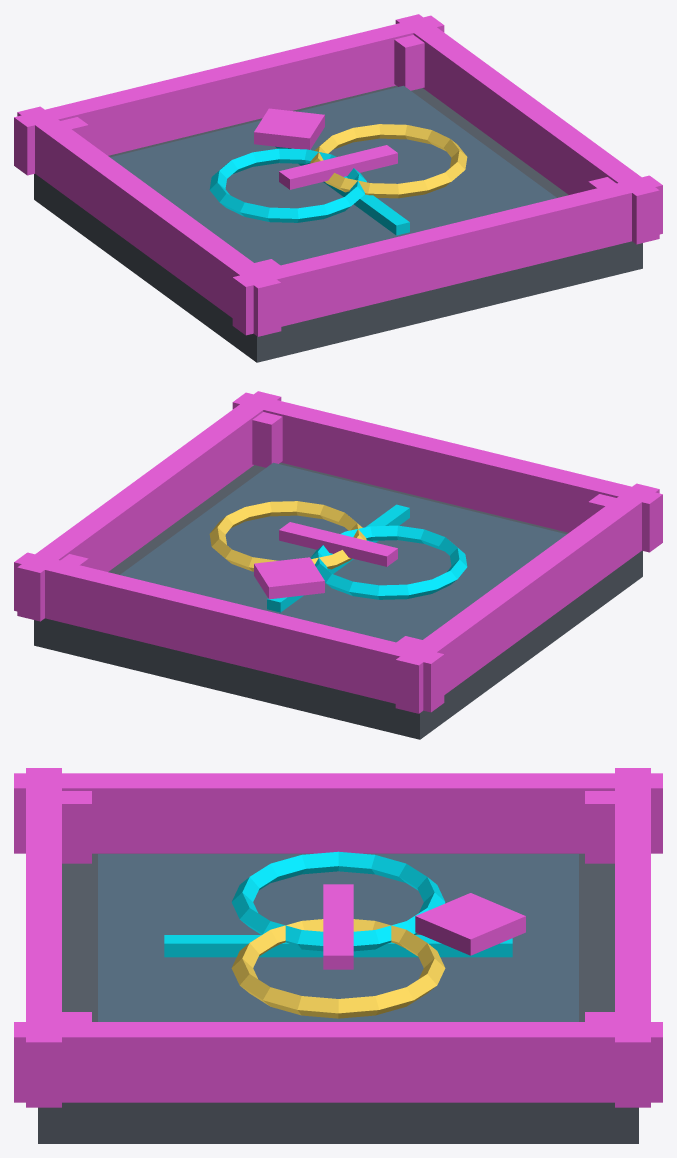
Rendered from TD_ComboTile.fbx.
3 views of the same model, one above another, from view 1: azimuth 30°, elevation 25°; view 2: azimuth 150°, elevation 25°; view 3: azimuth 270°, elevation 25° (orthographic). The views are drawn at different scales.
Parts seen in each view (by area): view 1: TD_ComboTile_Surface, TD_ComboTile_Rail_South, TD_ComboTile_Rail_North, TD_ComboTile_BasePlate, TD_ComboTile_Rail_West, TD_ComboTile_Rail_East, TD_ComboTile_ComboRing_Gold, TD_ComboTile_ComboRing_Cyan, TD_ComboTile_LinkBar, TD_ComboTile_ComboCenter, TD_ComboTile_CornerPost_04, TD_ComboTile_PathCenterLine; view 2: TD_ComboTile_Surface, TD_ComboTile_Rail_North, TD_ComboTile_Rail_South, TD_ComboTile_BasePlate, TD_ComboTile_Rail_West, TD_ComboTile_Rail_East, TD_ComboTile_ComboRing_Cyan, TD_ComboTile_ComboRing_Gold, TD_ComboTile_LinkBar, TD_ComboTile_ComboCenter, TD_ComboTile_CornerPost_02, TD_ComboTile_PathCenterLine; view 3: TD_ComboTile_Surface, TD_ComboTile_Rail_East, TD_ComboTile_Rail_West, TD_ComboTile_BasePlate, TD_ComboTile_Rail_North, TD_ComboTile_Rail_South, TD_ComboTile_ComboRing_Gold, TD_ComboTile_ComboRing_Cyan, TD_ComboTile_ComboCenter, TD_ComboTile_PathCenterLine, TD_ComboTile_LinkBar, TD_ComboTile_CornerPost_01 (+1 smaller).
Part boxes in pixels (box(x1,y1,x2,y2)): TD_ComboTile_Surface: box(110, 85, 556, 265); TD_ComboTile_Rail_South: box(232, 175, 662, 335); TD_ComboTile_Rail_North: box(14, 15, 444, 175); TD_ComboTile_BasePlate: box(34, 85, 642, 362); TD_ComboTile_Rail_West: box(17, 106, 281, 336); TD_ComboTile_Rail_East: box(395, 14, 659, 244); TD_ComboTile_ComboRing_Gold: box(310, 124, 467, 198); TD_ComboTile_ComboRing_Cyan: box(209, 148, 366, 222); TD_ComboTile_LinkBar: box(279, 145, 397, 189); TD_ComboTile_ComboCenter: box(254, 108, 324, 149); TD_ComboTile_CornerPost_04: box(394, 35, 424, 90); TD_ComboTile_PathCenterLine: box(275, 146, 409, 235); TD_ComboTile_Surface: box(120, 462, 566, 642); TD_ComboTile_Rail_North: box(14, 552, 444, 712); TD_ComboTile_Rail_South: box(232, 392, 662, 552); TD_ComboTile_BasePlate: box(34, 462, 642, 739); TD_ComboTile_Rail_West: box(395, 483, 659, 713); TD_ComboTile_Rail_East: box(17, 391, 281, 621); TD_ComboTile_ComboRing_Cyan: box(310, 525, 467, 599); TD_ComboTile_ComboRing_Gold: box(209, 501, 366, 571); TD_ComboTile_LinkBar: box(279, 522, 397, 566); TD_ComboTile_ComboCenter: box(254, 557, 324, 599); TD_ComboTile_CornerPost_02: box(252, 412, 282, 467); TD_ComboTile_PathCenterLine: box(267, 504, 409, 612); TD_ComboTile_Surface: box(98, 854, 578, 1021); TD_ComboTile_Rail_East: box(14, 1022, 662, 1102); TD_ComboTile_Rail_West: box(14, 773, 662, 853); TD_ComboTile_BasePlate: box(38, 853, 638, 1143); TD_ComboTile_Rail_North: box(615, 768, 650, 1107); TD_ComboTile_Rail_South: box(26, 768, 61, 1107); TD_ComboTile_ComboRing_Gold: box(231, 919, 445, 1018); TD_ComboTile_ComboRing_Cyan: box(231, 851, 445, 951); TD_ComboTile_ComboCenter: box(415, 893, 525, 955); TD_ComboTile_PathCenterLine: box(164, 935, 512, 957); TD_ComboTile_LinkBar: box(323, 884, 353, 969); TD_ComboTile_CornerPost_01: box(62, 791, 91, 863).
Size of the model in its own units: 108 by 20.5 by 108.
